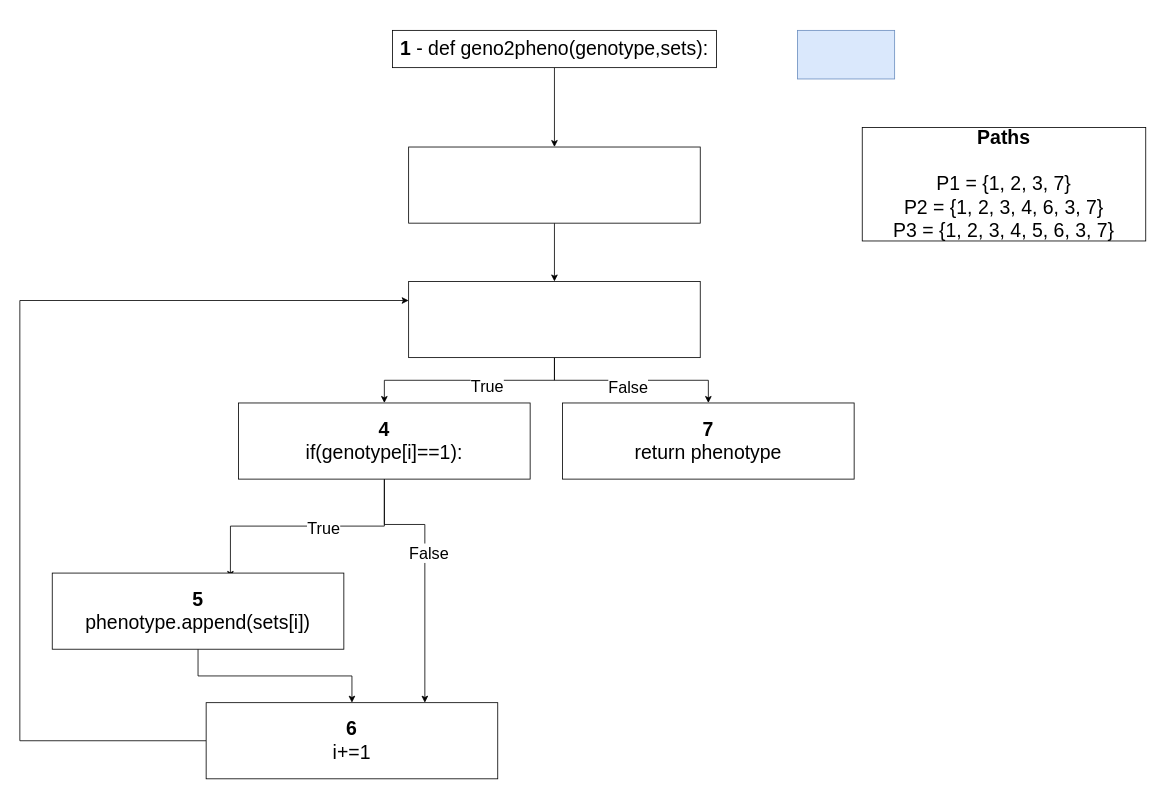
The diagram is 1160 pixels wide and 793 high, and some of its shapes have lost their labels. The shapes that lost their labels are listed below. From the top down, each one's box as (x1, y1, x2, y2) in pixels, then its label:
(797, 30, 895, 79): Vg = 3
(408, 146, 700, 223): 2 phenotype = [] i=0
(408, 281, 700, 358): 3 while i<len(genotype):
